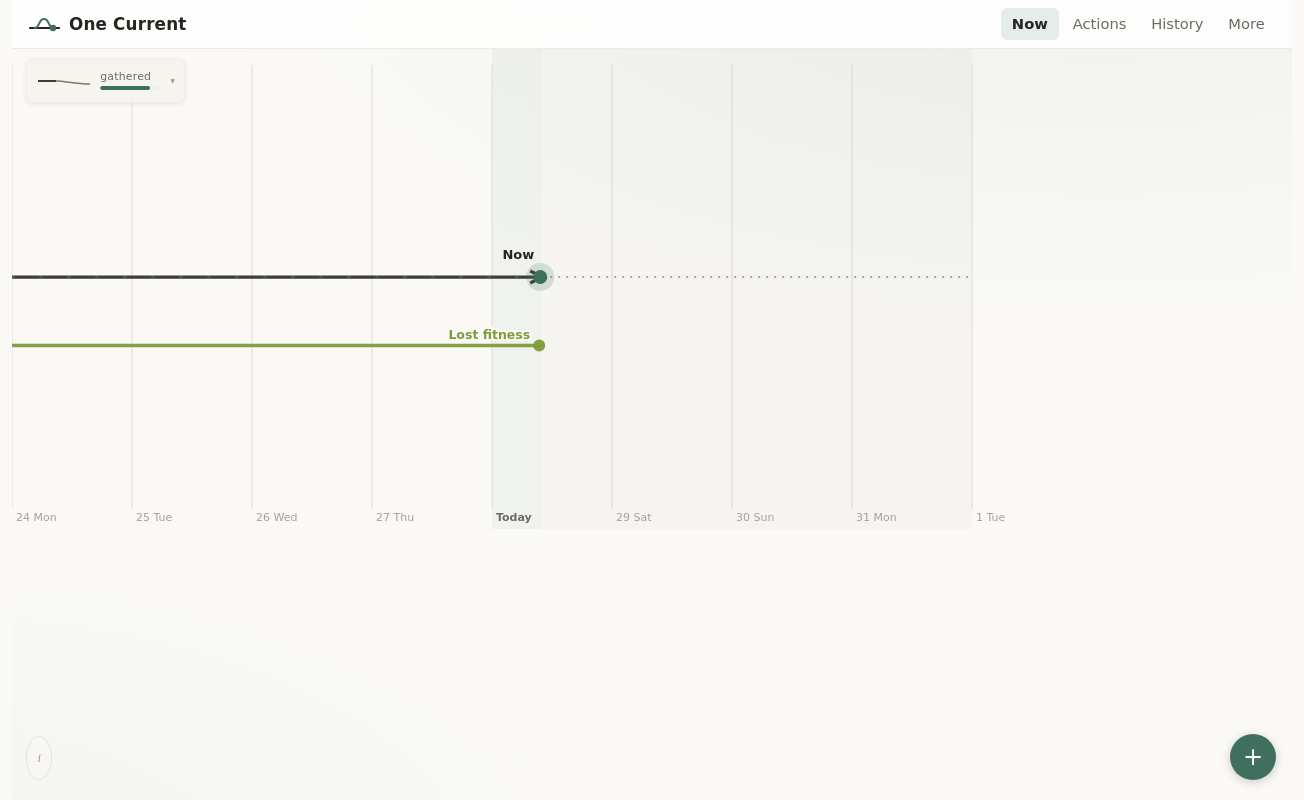
app flows › keeps the legend folded behind Help, without a keyboard map
The width and height of the screenshot is (1304, 800).
expect the text "solid = active" is not shown: met
Click the button named "Help": x=39, y=758 x1=26 y1=736 x2=52 y2=780
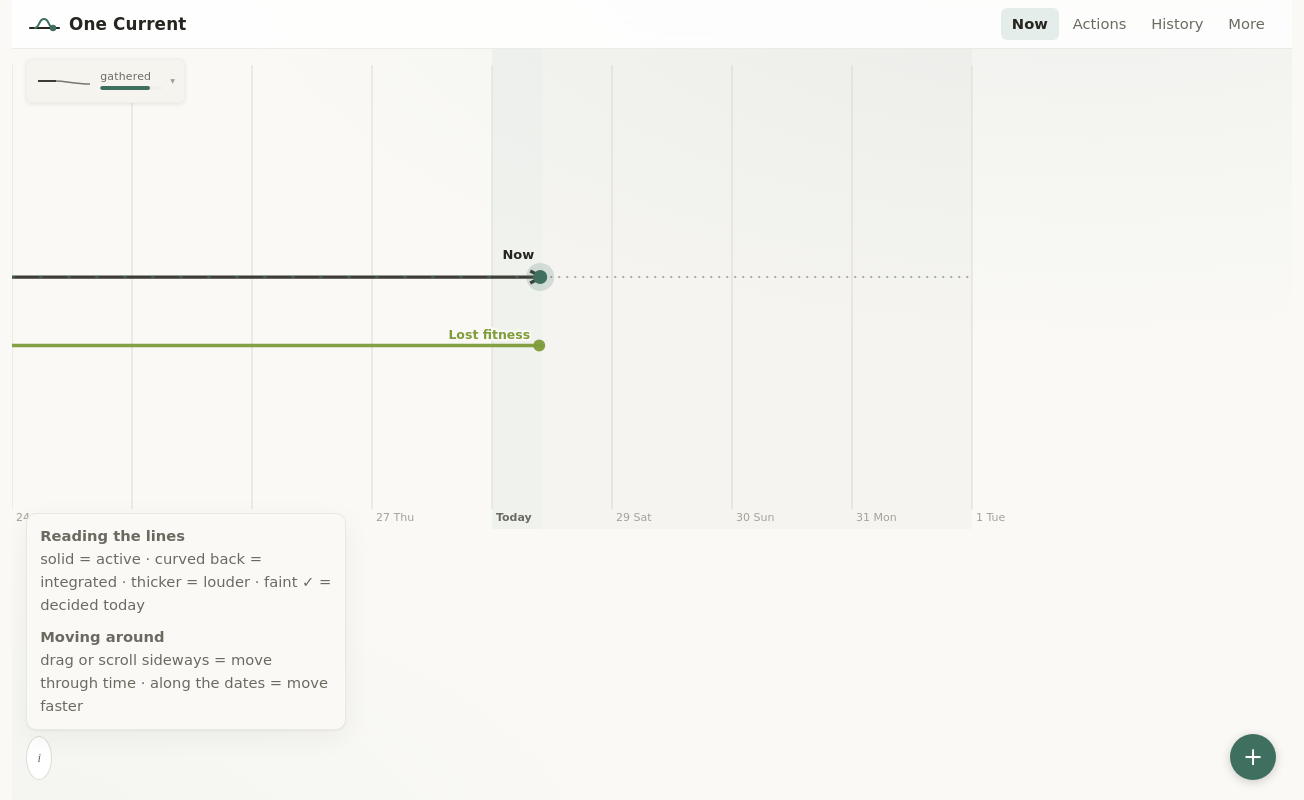
expect the text "solid = active" is shown: met, box x1=40 y1=550 x2=332 y2=613
expect the text "drag or scroll sideways = move through time" is shown: met, box x1=40 y1=651 x2=328 y2=714
